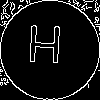H: (25, 25, 64, 72)
